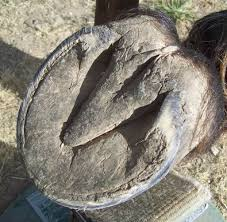horsesole: (17, 25, 180, 210)
